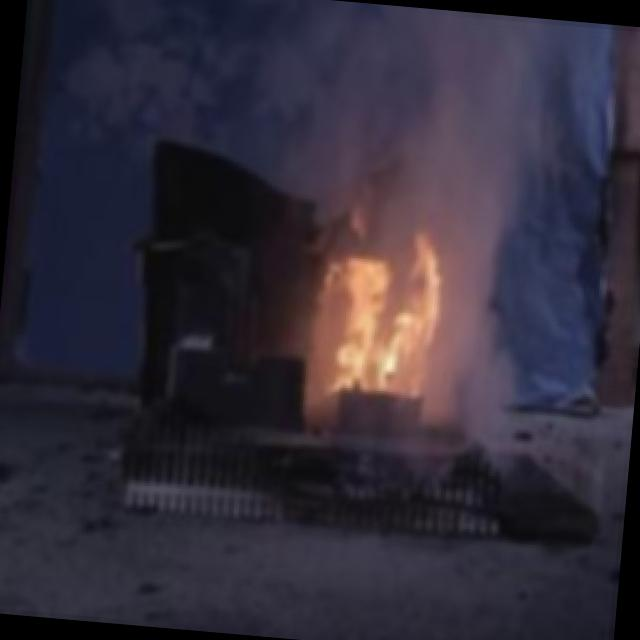fire: (308, 219, 453, 412)
